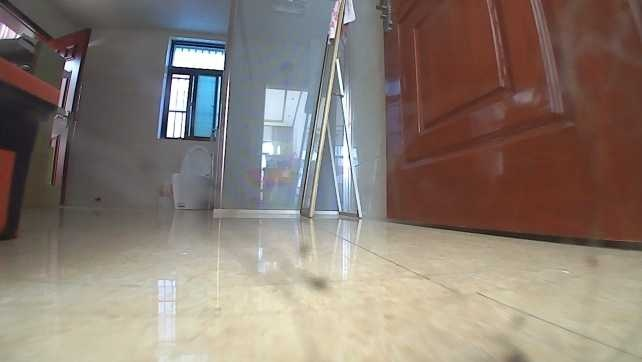door_anno: (375, 0, 640, 250)
toilet: (170, 146, 211, 211)
